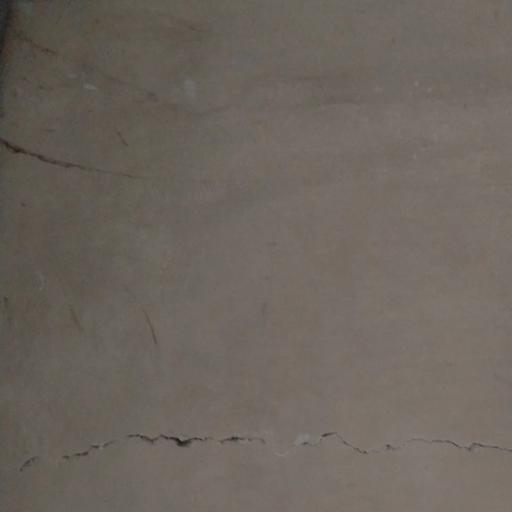minor_crack: (30, 25, 512, 155), (10, 393, 512, 512), (10, 95, 159, 220)
